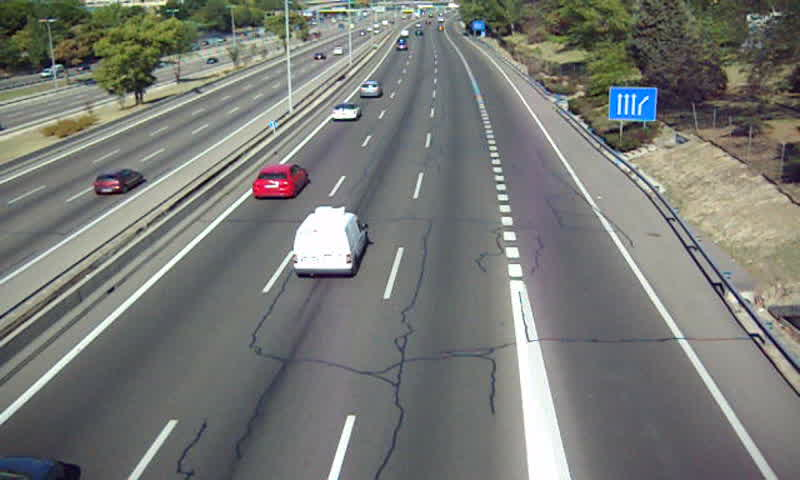car: (254, 165, 306, 199), (331, 103, 363, 122), (358, 80, 382, 98)
van: (292, 207, 367, 274)
